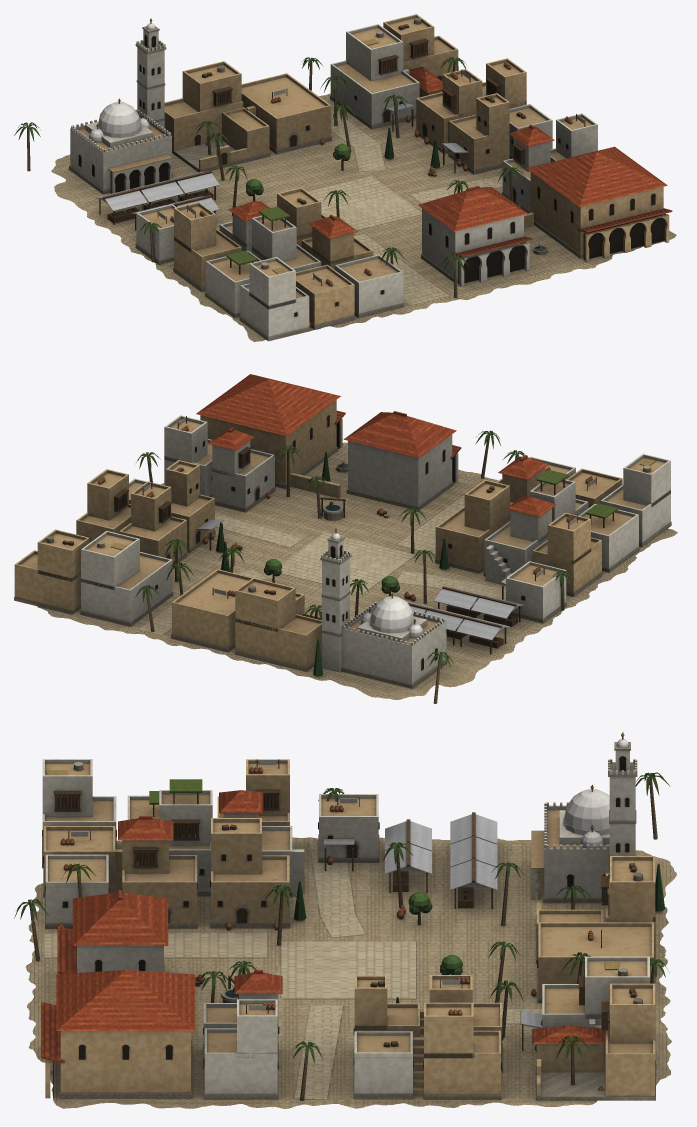
File: kingdoms-town-medium-b-310df162.glb
3 renders of one model, top to bottom at view 1: azimuth 30°, elevation 25°; view 2: azimuth 150°, elevation 25°; view 3: azimuth 270°, elevation 25°, orthographic. The views are drawn at different scales.
Parts seen in each view (by area): view 1: LOD0; view 2: LOD0; view 3: LOD0.
Part boxes in pixels (box(x1,y1,x2,y2)): LOD0: box(14, 14, 676, 341); LOD0: box(14, 374, 677, 703); LOD0: box(14, 732, 676, 1108).
Size of what is drawn, in the model's own units: 6.11 by 1.82 by 6.15.
Materials: 3 (3 with a texture image).
